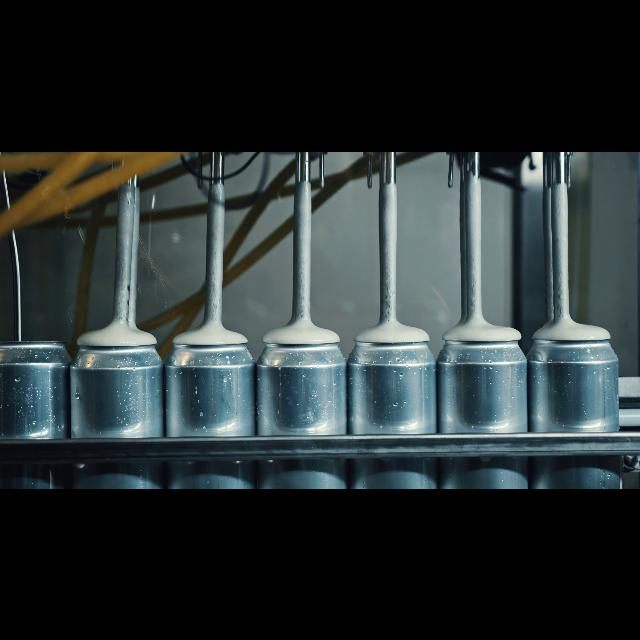empty: (10, 332, 66, 488)
full: (74, 308, 160, 488), (534, 314, 616, 488), (164, 322, 246, 488), (260, 326, 344, 488), (446, 314, 524, 488), (355, 322, 433, 488)
